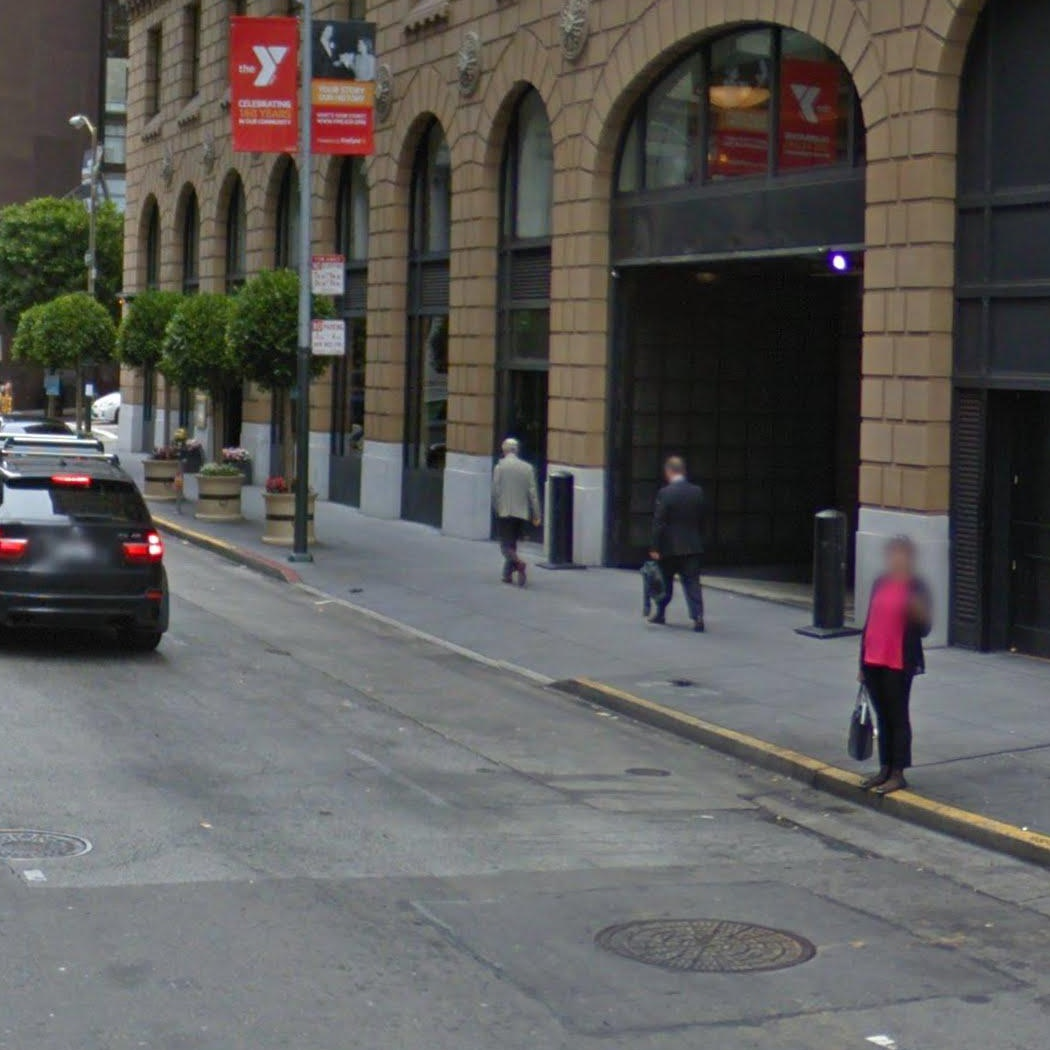No Parking: (308, 251, 350, 298), (308, 315, 348, 360)
